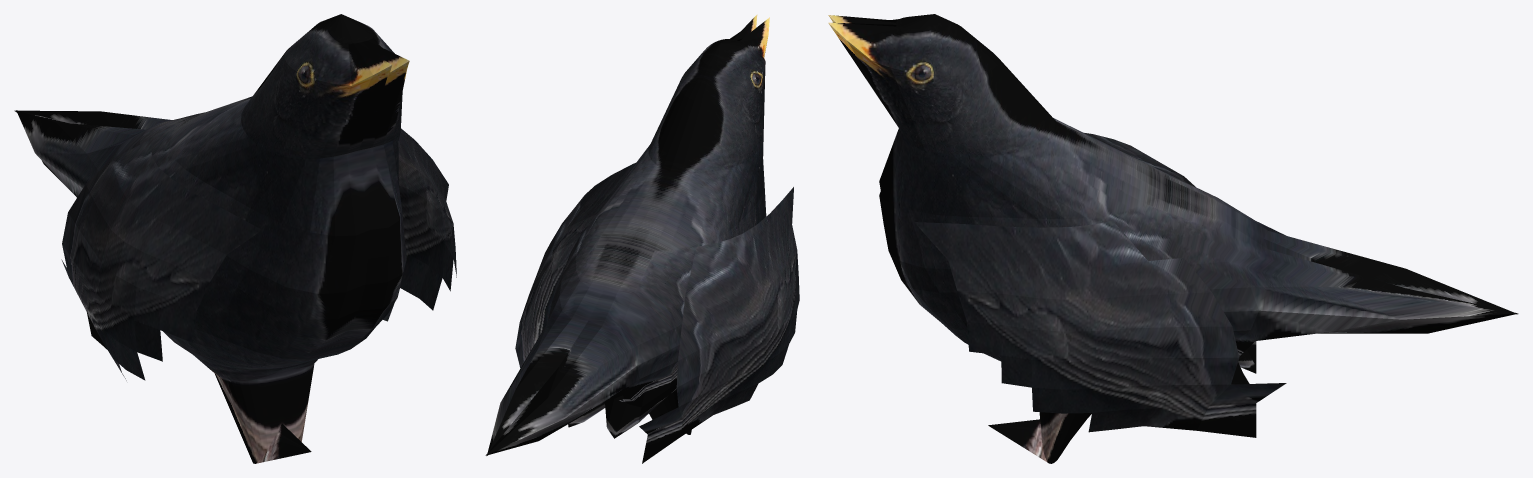
The model's file is BlackBird.fbx.
The picture shows the model from 3 angles, left to right: view 1: azimuth 30°, elevation 25°; view 2: azimuth 150°, elevation 25°; view 3: azimuth 270°, elevation 25°; orthographic projection. The views are drawn at different scales.
Parts seen in each view (by area): view 1: Sphere.001, Sphere.002; view 2: Sphere.001, Sphere.002; view 3: Sphere.001, Sphere.002.
Part boxes in pixels (x1,y1,x2,y2): Sphere.001: (14,14,409,463); Sphere.002: (61,128,456,380); Sphere.001: (485,14,769,455); Sphere.002: (515,163,799,463); Sphere.001: (828,14,1518,463); Sphere.002: (914,133,1286,437).
Bounding box in the file's own units: 91.27 × 135 × 192.
